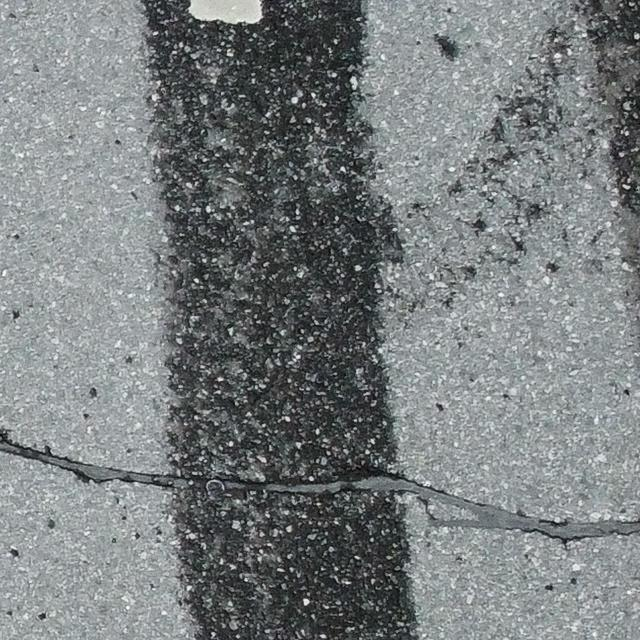TransverseCrack: (1, 435, 640, 543)
